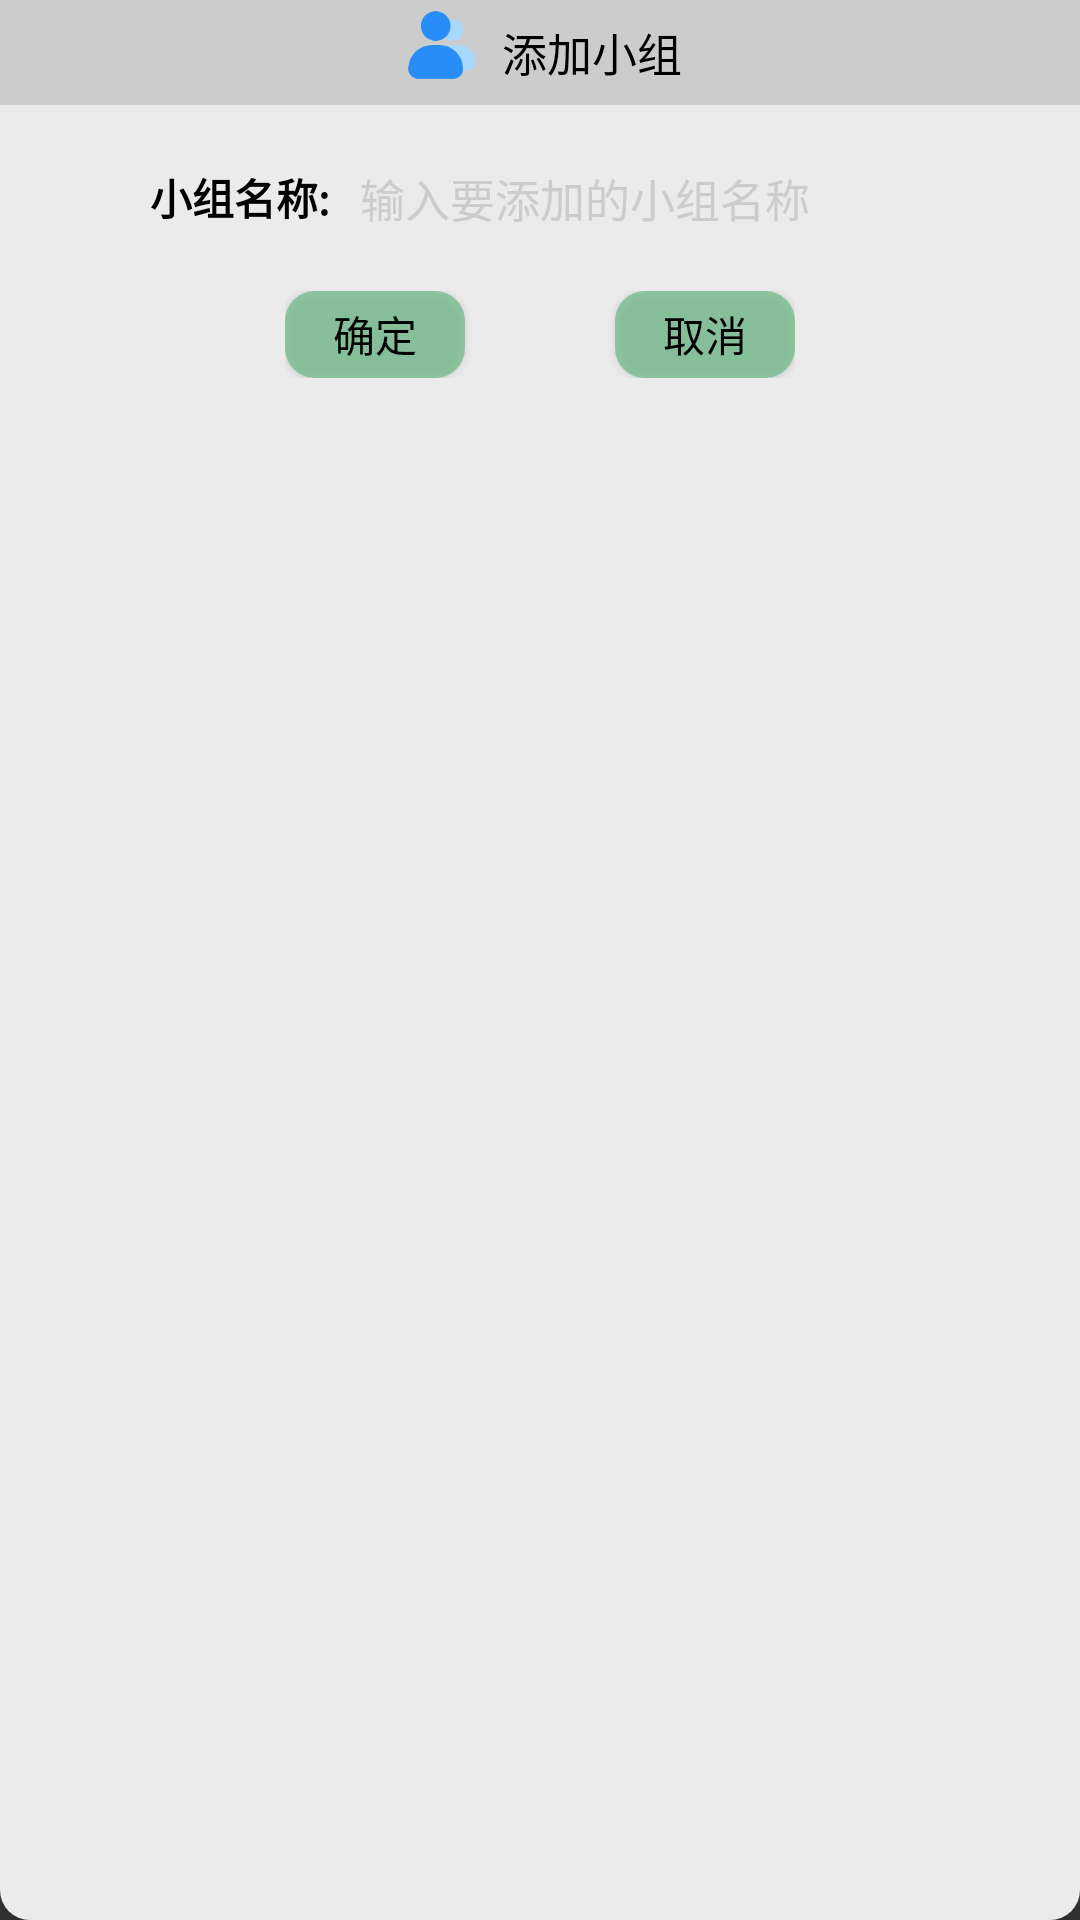

Icons on this 1080 × 1920 Android screen, each with its box as bbox=[x1, y1, x2, y2]:
note user: bbox=[408, 11, 476, 79]
